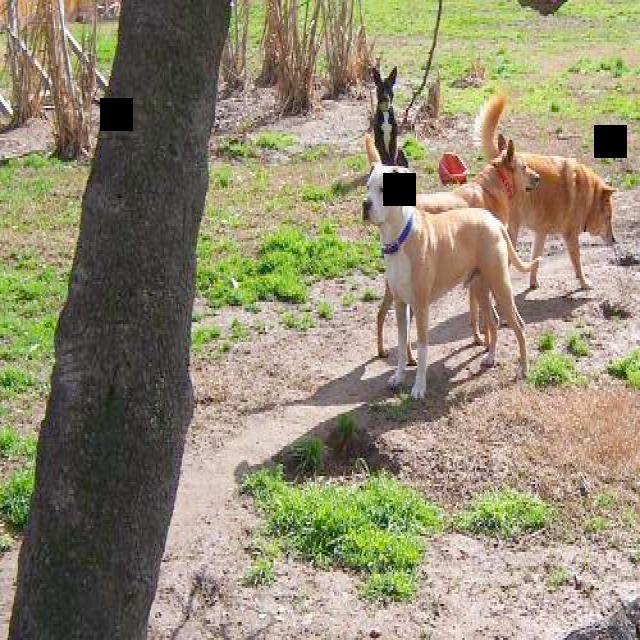adult_dog: (350, 136, 545, 401), (375, 136, 541, 365), (478, 90, 623, 295), (362, 62, 406, 174)
